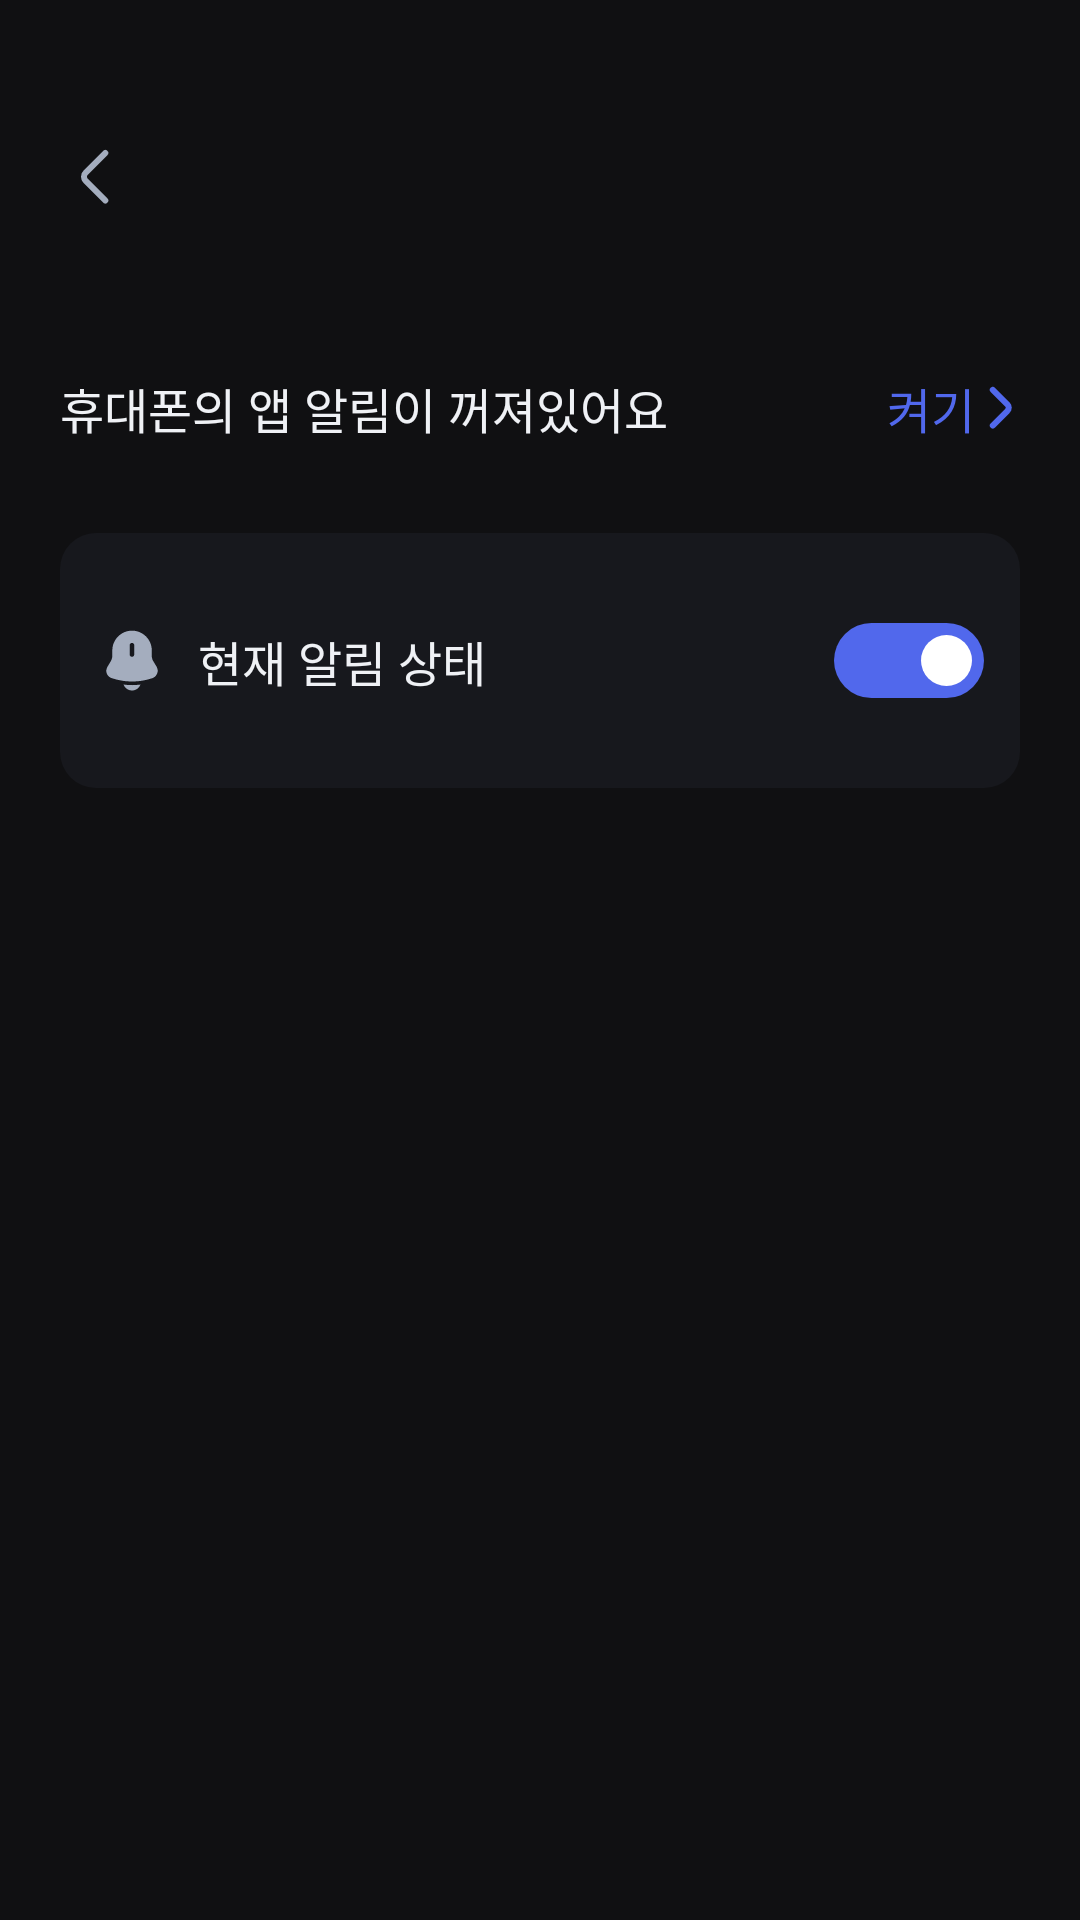

Named icons in this screenshot (1080 × 1920) and their centers, (x=x, y=y):
arrow left: (x=95, y=177)
arrow right: (x=1000, y=407)
notification: (x=132, y=660)
